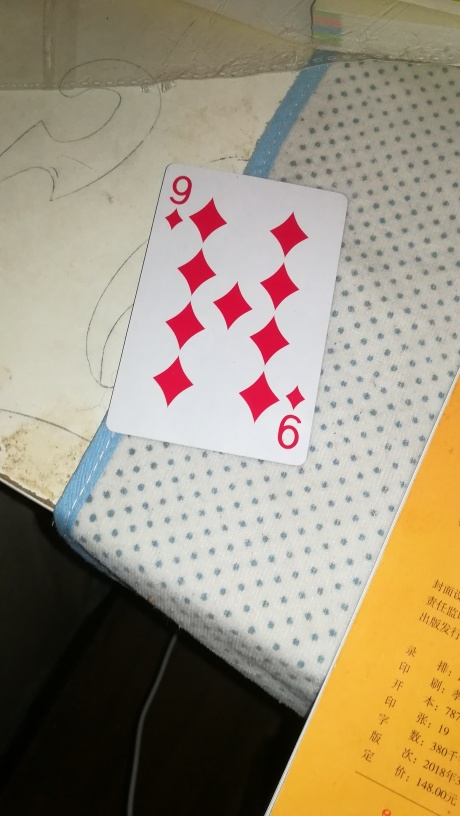fk 9: (101, 161, 347, 463)
